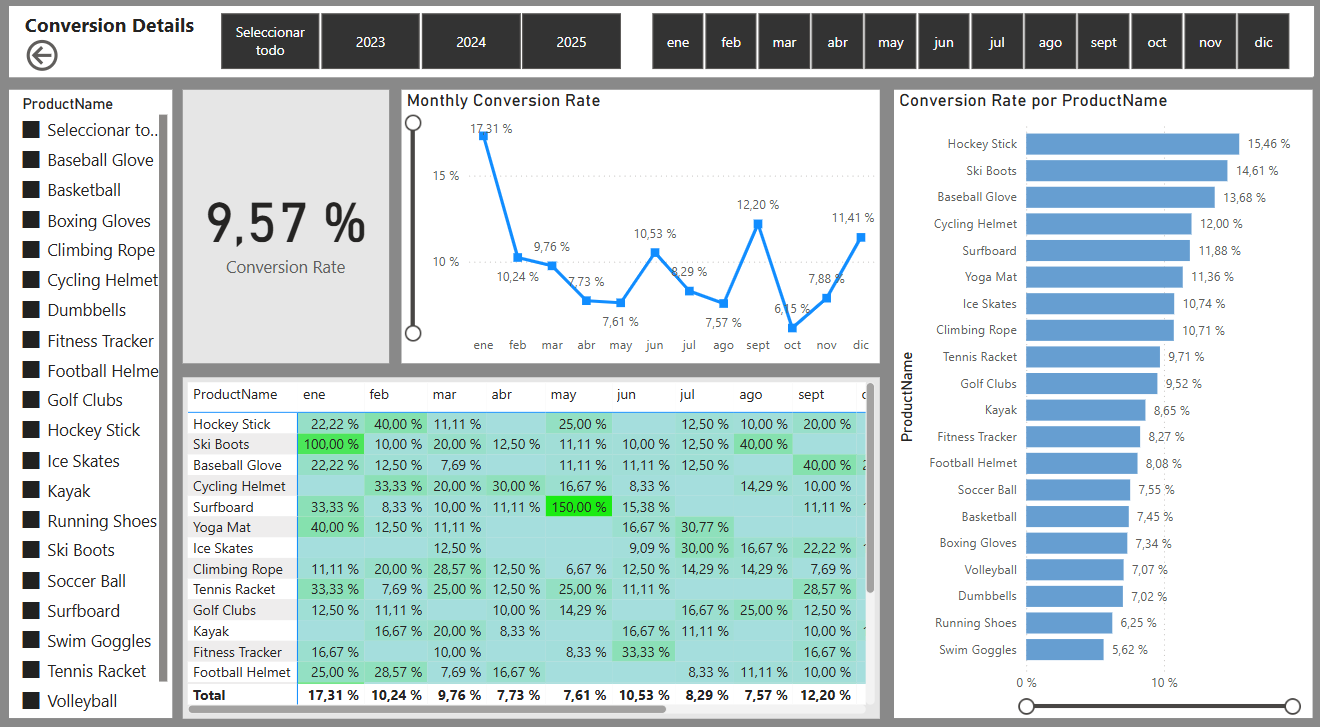

This screenshot's page, from the dashboard's own definition file:
{"tool":"powerbi","page":{"name":"Conversion Details","canvas":[1280,720],"ordinal":1},"visuals":[{"type":"textbox","box":[10.1,14.4,1258.7,69],"z":0},{"type":"slicer","fields":{"Values":["dim_products.ProductName"]},"box":[9.7,95.8,157.6,606.2],"z":1000},{"type":"card","fields":{"Values":["_Calculations.Conversion Rate"]},"box":[177,95.8,198.8,264.3],"z":2000},{"type":"slicer","fields":{"Values":["Calendar.MonthNameShort"]},"box":[604.2,14.4,664.6,67.6],"z":3000},{"type":"slicer","fields":{"Values":["Calendar.Year"]},"box":[188.4,14.4,435.9,67.6],"z":4000},{"type":"barChart","fields":{"Category":["dim_products.ProductName"],"Y":["_Calculations.Conversion Rate"]},"box":[864.4,95.8,403.7,606.2],"z":5000},{"type":"pivotTable","fields":{"Values":["_Calculations.Conversion Rate"],"Columns":["Calendar.MonthNameShort"],"Rows":["dim_products.ProductName"]},"box":[177,372.2,672.9,329.8],"z":6000},{"type":"actionButton","box":[21.7,42.2,100.1,39.8],"z":7000},{"type":"lineChart","title":"Monthly Conversion Rate ","fields":{"Category":["Calendar.MonthNameShort"],"Y":["_Calculations.Conversion Rate"]},"box":[388,95.8,461.9,264.3],"z":8000}]}

Visuals, with their boxes in screenshot pixels (x1, y1, x2, y2), scaled from the page's 1280x720 canvas onto the 1320x727 screenshot:
textbox: left=10, top=15, right=1308, bottom=84
slicer - dim_products.ProductName: left=10, top=97, right=173, bottom=709
card - _Calculations.Conversion Rate: left=183, top=97, right=388, bottom=364
slicer - Calendar.MonthNameShort: left=623, top=15, right=1308, bottom=83
slicer - Calendar.Year: left=194, top=15, right=644, bottom=83
barChart - dim_products.ProductName x _Calculations.Conversion Rate: left=891, top=97, right=1308, bottom=709
pivotTable - _Calculations.Conversion Rate x Calendar.MonthNameShort: left=183, top=376, right=876, bottom=709
actionButton: left=22, top=43, right=126, bottom=83
"Monthly Conversion Rate " lineChart: left=400, top=97, right=876, bottom=364
